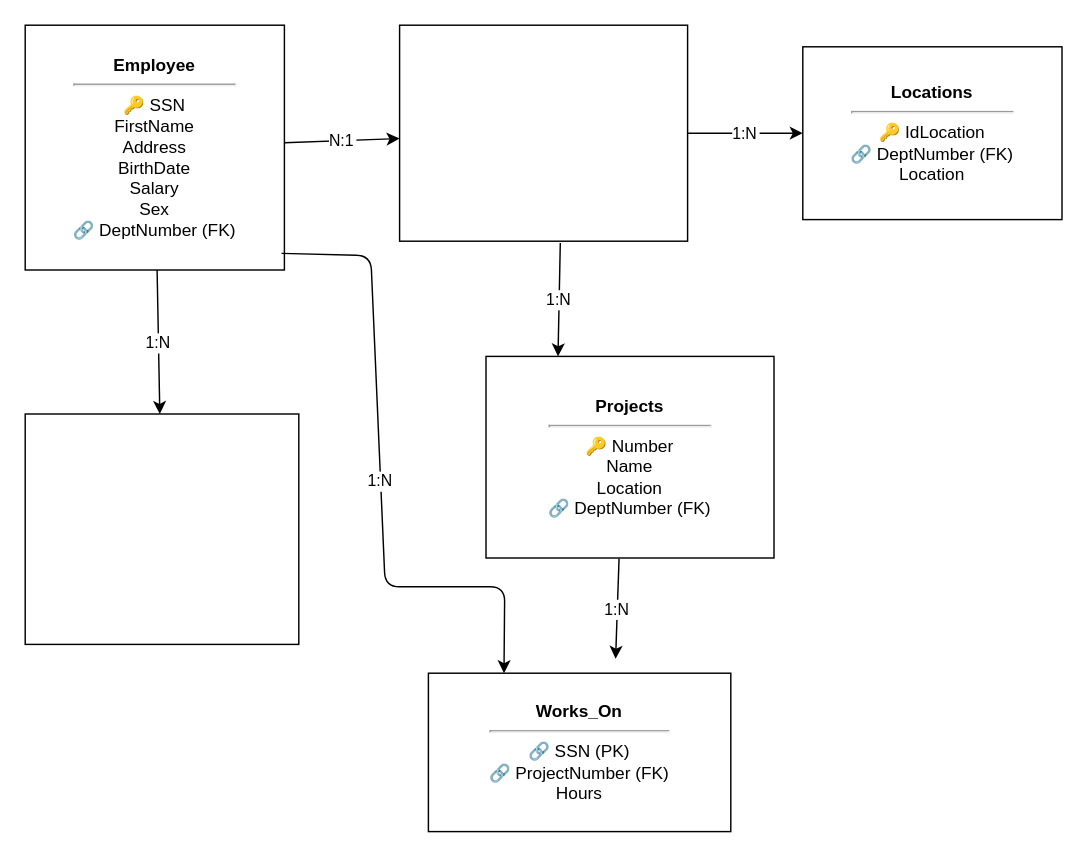
Some shapes in this 1087 by 857 pixel diagram are drawn without their labels. Here are the shapes that lost their labels. From the top down, the box of each, then its label:
(398, 24, 688, 241): Department 🔑 Number Name Manager (Unique) StartDate
(24, 413, 299, 644): Dependent 🔑 IdDependent Name SSN Sex Relationship BirthDate
